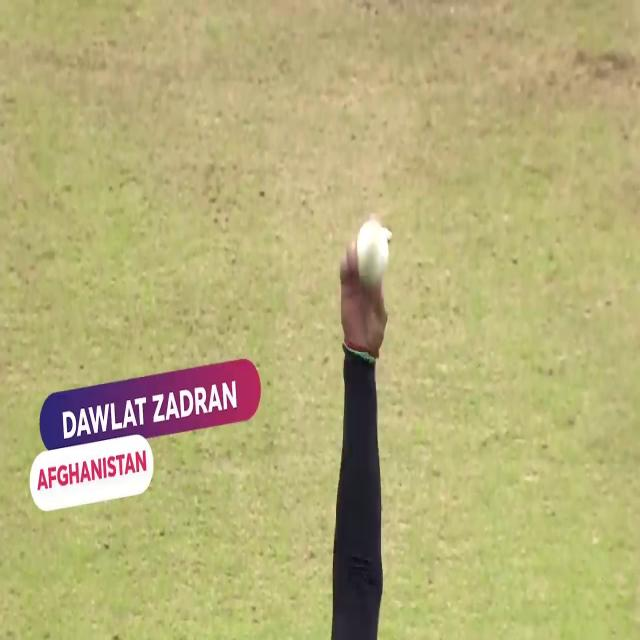ball: (355, 214, 394, 291)
